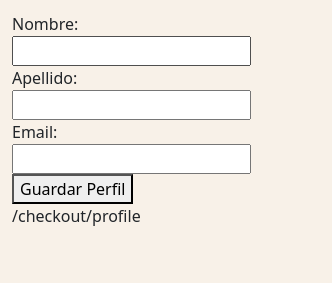
Test: ProfileForm › muestra mensaje de formato cuando el email es inválido
Type "Caro" into the field labelled "Nombre:".
click(132, 51); type("Caro")  # box [12,36,251,66]
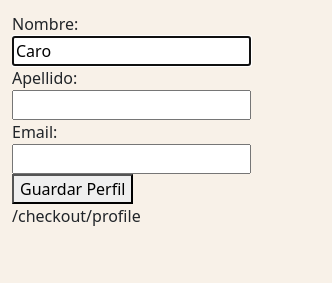
Type "Aguirre" into the field labelled "Apellido:".
click(132, 105); type("Aguirre")  # box [12,90,251,120]
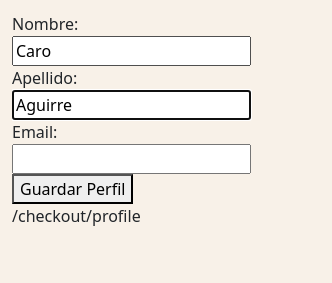
Type "email-no-valido" into the field labelled "Email:".
click(132, 159); type("email-no-valido")  # box [12,144,251,174]
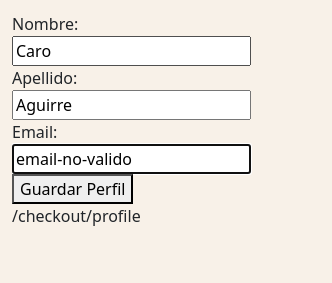
Click the button "Guardar Perfil".
click(73, 189)  # box [12,174,134,204]
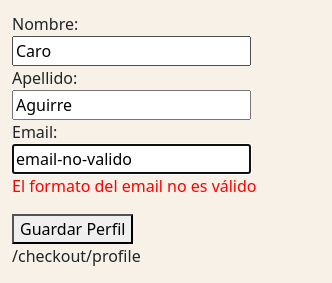
Now the text "El formato del email no es válido" is shown, box [12,175,256,197]
